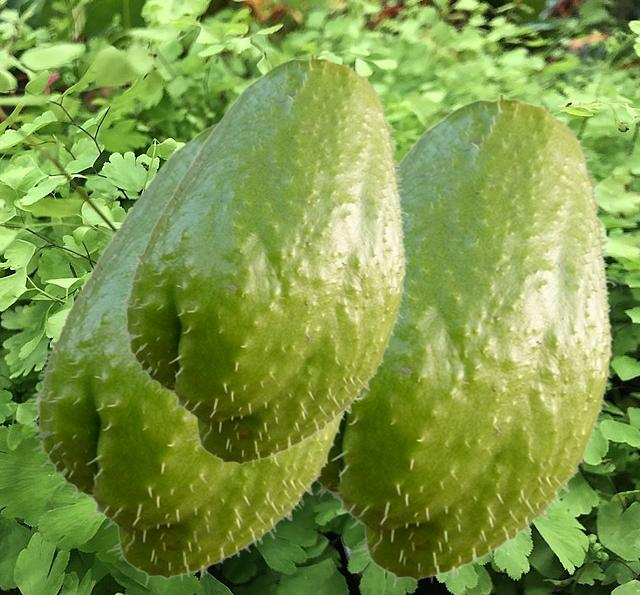sayote: (27, 120, 353, 584), (314, 95, 615, 586), (116, 55, 408, 469)
